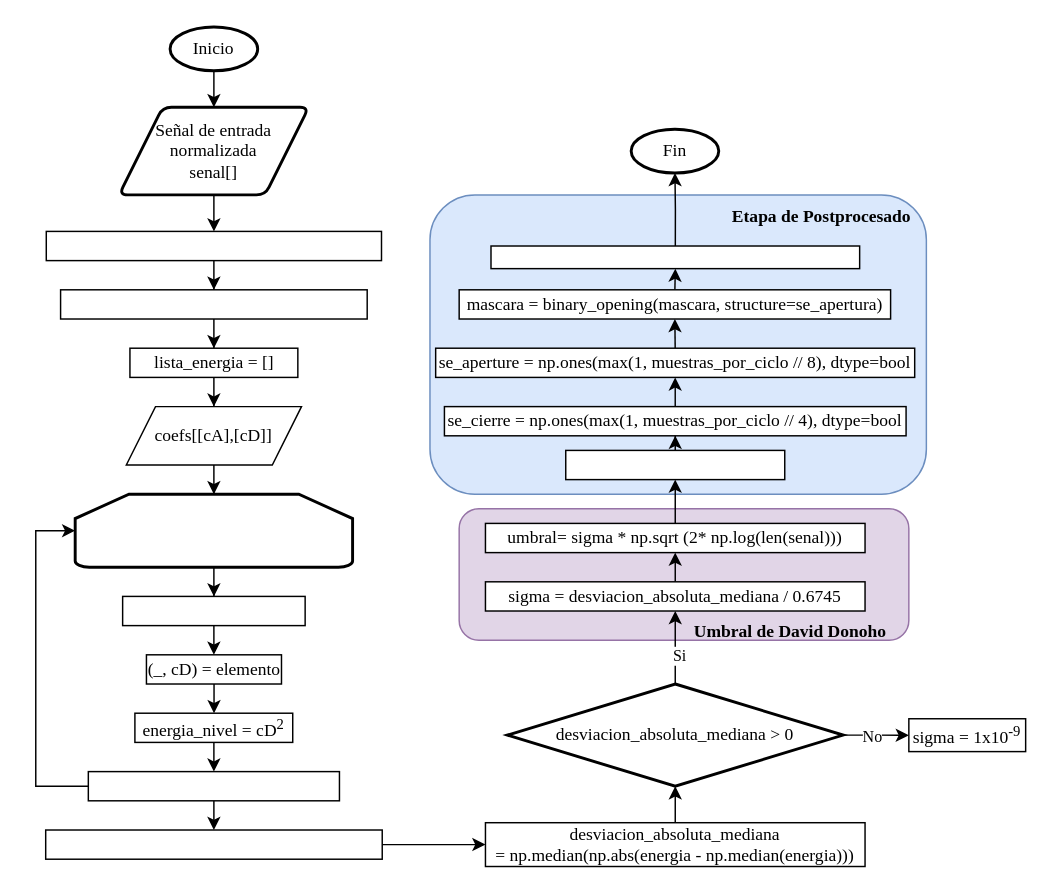
This 1051x892 diagram has some shape labels left out. Here are the shapes that lost their labels. From the top down, the centre of each, then its label:
the point at 213,245: muestras_por_ciclo = F_muestreo/F_nominal
the point at 675,257: mascara = binary_closing(m, structure=se_cierre)
the point at 213,303: coefs = pywt.swt(senal,wavelet,niveles)
the point at 674,464: m = energia > umbral
the point at 213,530: desde : inicio = 0 hasta: len(coefs) - 1 incremento: 1
the point at 213,610: elemento = coefs[inicio]
the point at 213,785: lista_energia.append(energia_nivel)
the point at 213,844: energia = np.sum(lista_energia, axis = 0)
